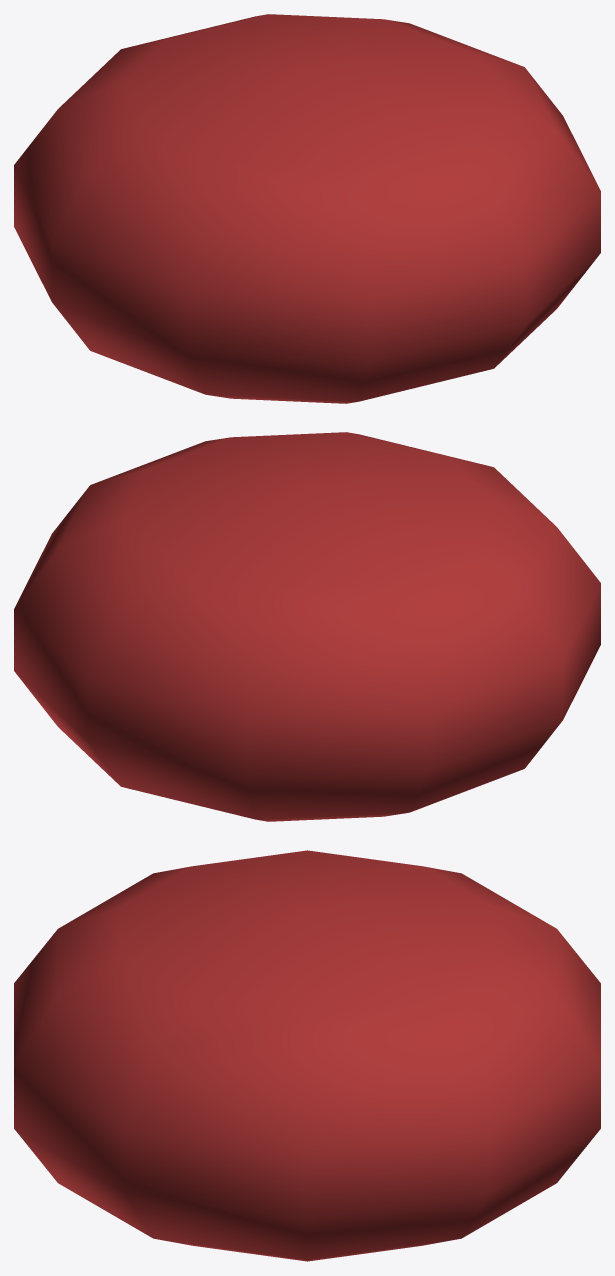
File: 43_prop_cushion1.FBX
The picture shows the model from 3 angles, top to bottom: view 1: azimuth 30°, elevation 25°; view 2: azimuth 150°, elevation 25°; view 3: azimuth 270°, elevation 25°; orthographic projection. The views are drawn at different scales.
Parts seen in each view (by area): view 1: prop_cushion1; view 2: prop_cushion1; view 3: prop_cushion1.
Part boxes in pixels (x1=…): prop_cushion1: x1=14, y1=14, x2=600, y2=403; prop_cushion1: x1=14, y1=432, x2=600, y2=821; prop_cushion1: x1=14, y1=850, x2=600, y2=1261.
Size of the model in its own units: 33.76 by 17.8 by 32.11.
